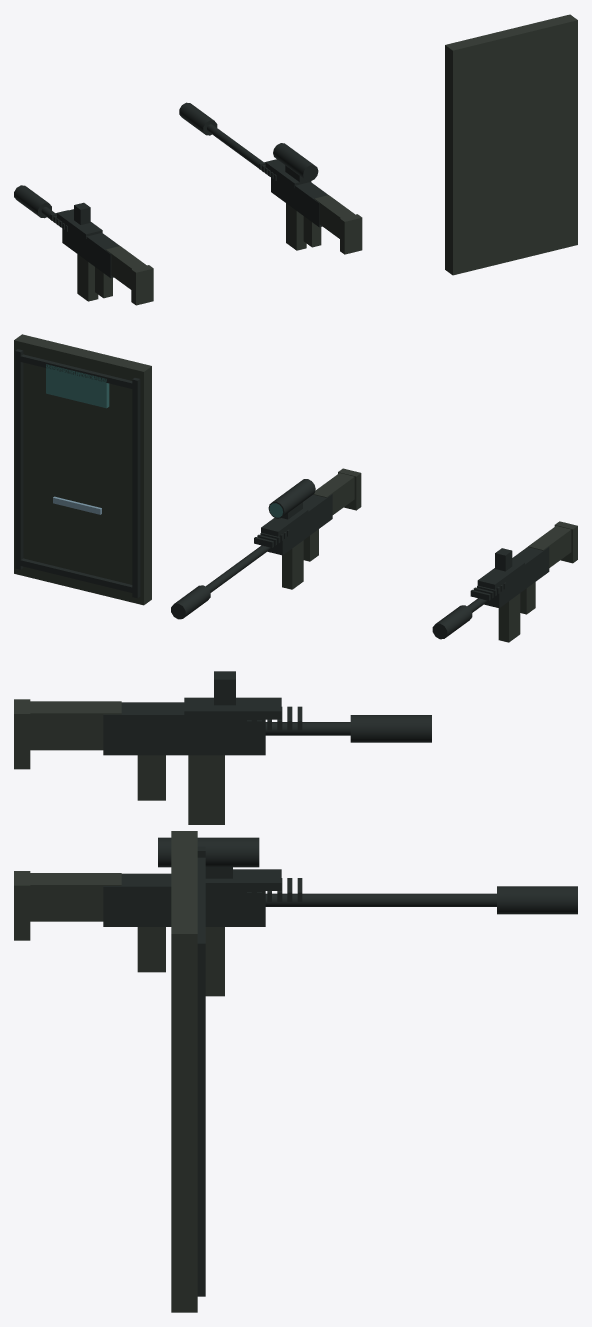
The model's file is equipment.glb.
3 views of the same model, one above another, from view 1: azimuth 30°, elevation 25°; view 2: azimuth 150°, elevation 25°; view 3: azimuth 270°, elevation 25° (orthographic). The views are drawn at different scales.
Parts seen in each view (by area): view 1: Ballistic shield, Bolt rifle, Assault rifle; view 2: Ballistic shield, Bolt rifle, Assault rifle; view 3: Bolt rifle, Assault rifle, Ballistic shield.
Boxes of the visible parts, x1,y1,x2,y2 form: Ballistic shield: [445, 14, 577, 275]; Bolt rifle: [179, 102, 362, 254]; Assault rifle: [14, 185, 153, 305]; Ballistic shield: [14, 334, 151, 605]; Bolt rifle: [171, 468, 361, 619]; Assault rifle: [432, 521, 577, 642]; Bolt rifle: [14, 837, 577, 996]; Assault rifle: [14, 671, 431, 824]; Ballistic shield: [171, 831, 205, 1312].
Bounding box in the file's own units: 2.34 × 1.03 × 1.39.
